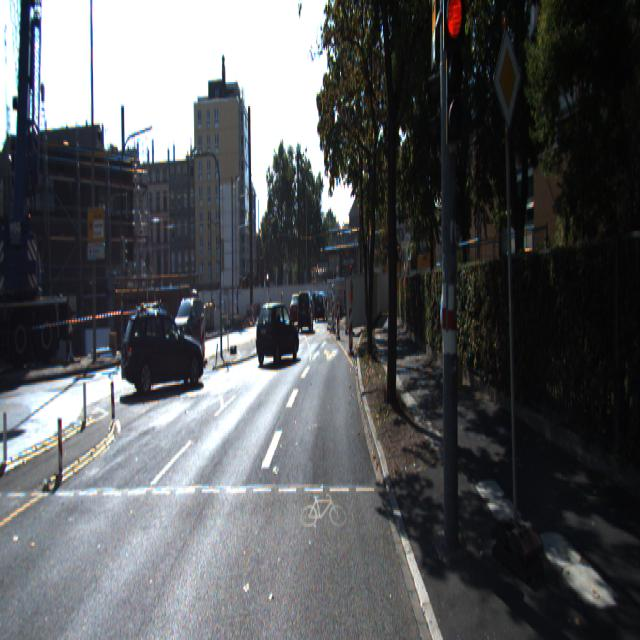Car: (118, 300, 205, 393), (254, 295, 300, 364), (170, 292, 205, 350), (296, 284, 313, 329), (290, 292, 304, 324)
